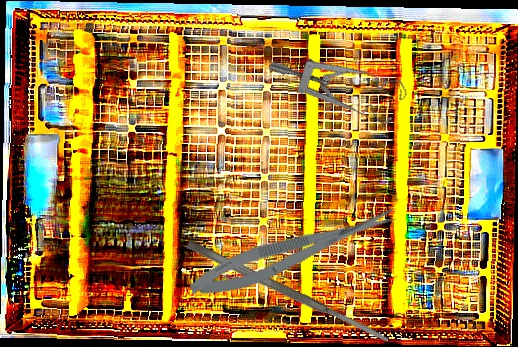Micro Scissor: (185, 200, 402, 306)
Spatula Surgical: (185, 237, 391, 347)
Speculum: (266, 9, 416, 153)
